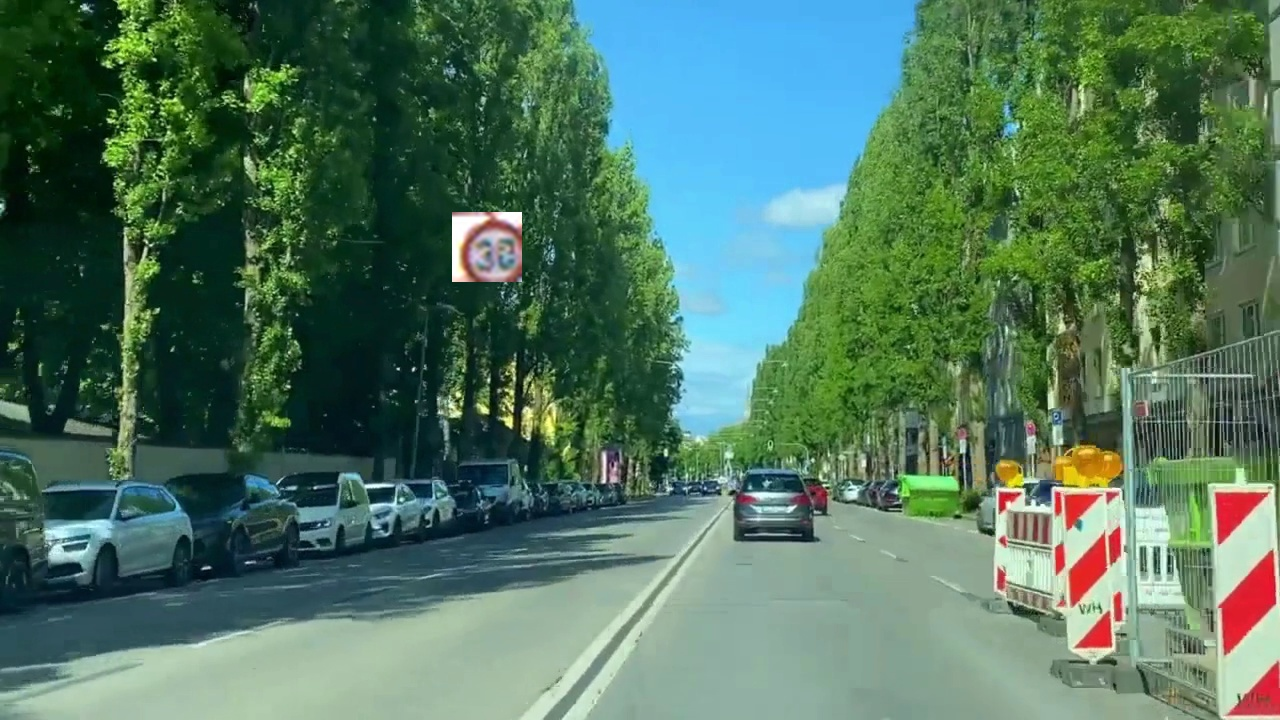Speed 30: (452, 212, 522, 282)
